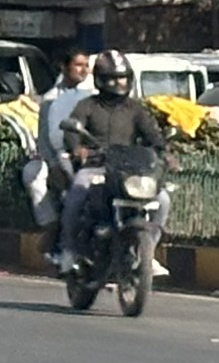BikeWithRider: (20, 33, 185, 330)
Helmet: (91, 46, 136, 106)
NoHelmet: (56, 46, 95, 87)
